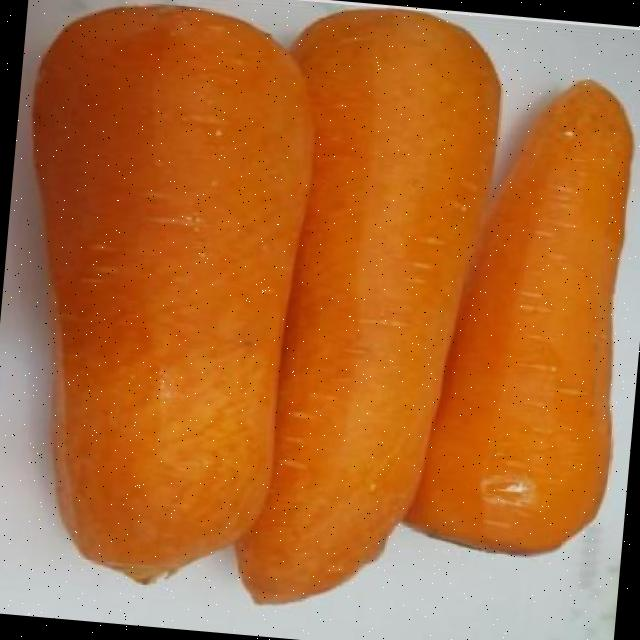carrot: (33, 7, 313, 581), (236, 10, 499, 604), (405, 80, 632, 555)
